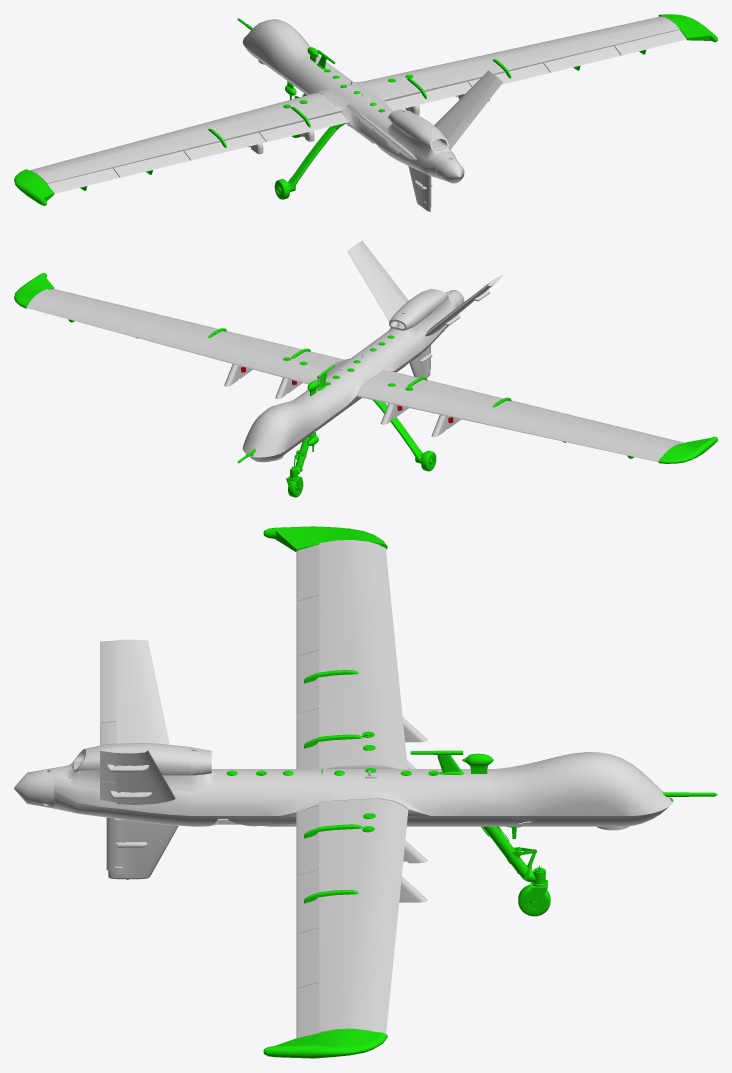
File: Mq9Ripper_MODEL.fbx
The picture shows the model from 3 angles, top to bottom: view 1: azimuth 30°, elevation 25°; view 2: azimuth 150°, elevation 25°; view 3: azimuth 270°, elevation 25°; orthographic projection. The views are drawn at different scales.
Visible parts, largest first — view 1: 004_low, 1_low, 015_low, 117_low, 013_low, 007_low, 119_low, 034_low, 006_low, 014_low; view 2: 004_low, 1_low, 013_low, 117_low, 014_low, 015_low, 007_low, 034_low; view 3: 004_low, 1_low, 015_low, 013_low, 117_low, 007_low, 006_low, 119_low, 014_low, 017_low, 005_low.
Boxes of the visible parts, x1=… form: 004_low: x1=30, y1=16, x2=679, y2=183; 1_low: x1=242, y1=19, x2=456, y2=179; 015_low: x1=47, y1=30, x2=686, y2=193; 117_low: x1=14, y1=14, x2=717, y2=205; 013_low: x1=347, y1=70, x2=498, y2=159; 007_low: x1=356, y1=77, x2=502, y2=160; 119_low: x1=436, y1=156, x2=464, y2=183; 034_low: x1=292, y1=126, x2=337, y2=181; 006_low: x1=408, y1=166, x2=430, y2=211; 014_low: x1=248, y1=94, x2=464, y2=154; 004_low: x1=26, y1=289, x2=679, y2=462; 1_low: x1=242, y1=289, x2=458, y2=462; 013_low: x1=347, y1=243, x2=498, y2=336; 117_low: x1=15, y1=273, x2=717, y2=463; 014_low: x1=224, y1=364, x2=461, y2=437; 015_low: x1=49, y1=288, x2=684, y2=443; 007_low: x1=358, y1=240, x2=503, y2=303; 034_low: x1=373, y1=400, x2=419, y2=452; 004_low: x1=319, y1=539, x2=408, y2=1033; 1_low: x1=54, y1=743, x2=673, y2=830; 015_low: x1=296, y1=544, x2=319, y2=1038; 013_low: x1=116, y1=639, x2=175, y2=804; 117_low: x1=267, y1=526, x2=387, y2=1058; 007_low: x1=100, y1=640, x2=116, y2=802; 006_low: x1=108, y1=820, x2=178, y2=879; 119_low: x1=14, y1=768, x2=54, y2=808; 014_low: x1=399, y1=717, x2=427, y2=902; 017_low: x1=318, y1=670, x2=362, y2=897; 005_low: x1=106, y1=817, x2=122, y2=871.
Bounding box in the file's own units: 790 × 155 × 448.
